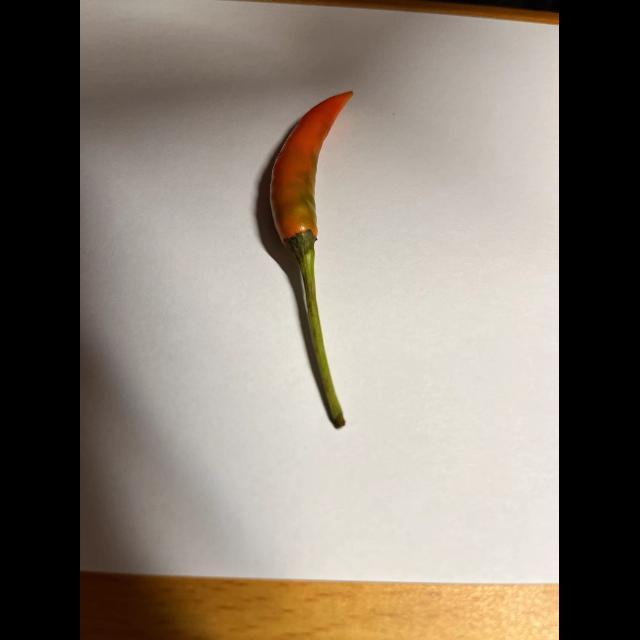chili_pepper: (255, 86, 392, 436)
